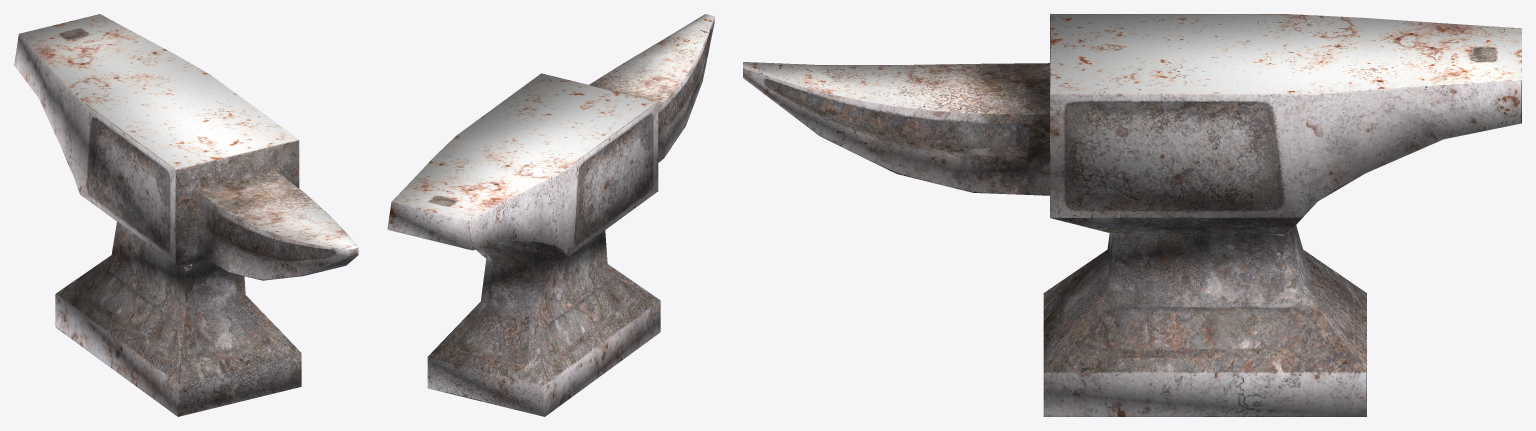
File: anvil_three.glb
3 views of the same model, side by side, from view 1: azimuth 30°, elevation 25°; view 2: azimuth 150°, elevation 25°; view 3: azimuth 270°, elevation 25° (orthographic). The views are drawn at different scales.
Parts seen in each view (by area): view 1: Object_2; view 2: Object_2; view 3: Object_2.
Part boxes in pixels (x1,y1,x2,y2): Object_2: (14, 14, 358, 416); Object_2: (387, 14, 714, 416); Object_2: (743, 14, 1521, 416).
Size of the model in its own units: 1.59 by 3.01 by 6.56.
1 material, 1 textured.
